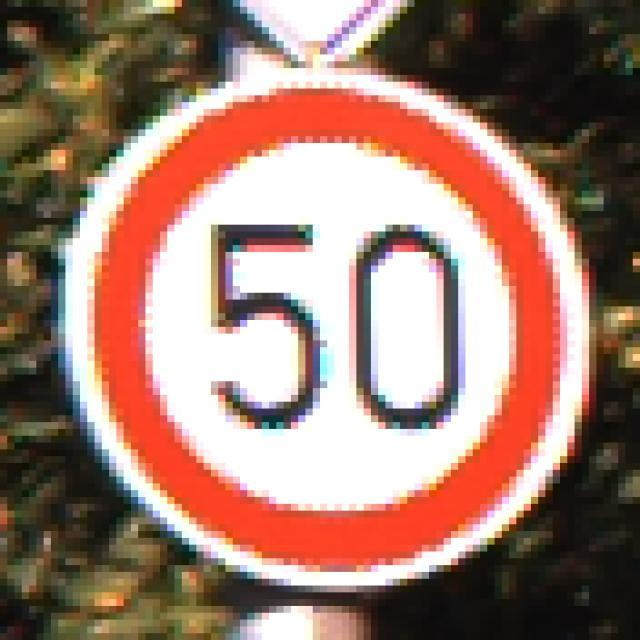speed limit 50: (61, 63, 605, 593)
